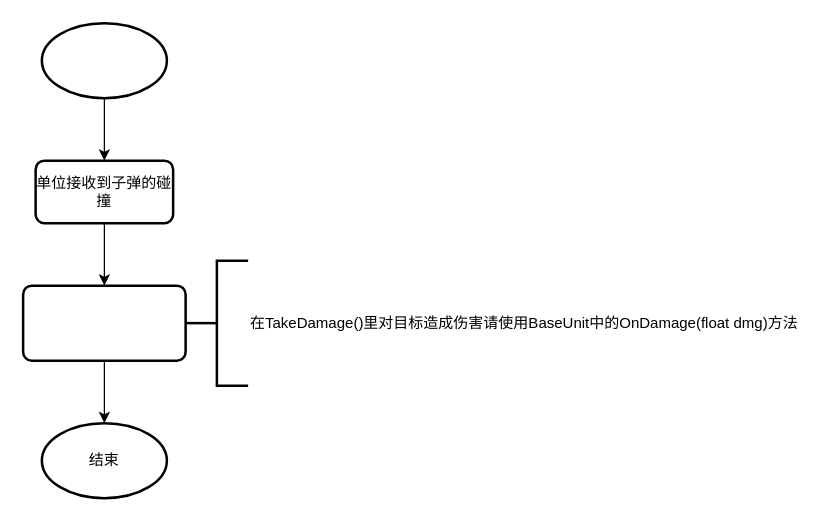
The diagram is 819 pixels wide and 520 high, and some of its shapes have lost their labels. Here are the shapes that lost their labels. From the top down, the box of each, then its label:
(40, 21, 168, 99): 开始
(21, 284, 186, 361): 在单位里：调用子弹的TakeDamage(BaseUnit baseUnit)方法并把自身传给子弹
